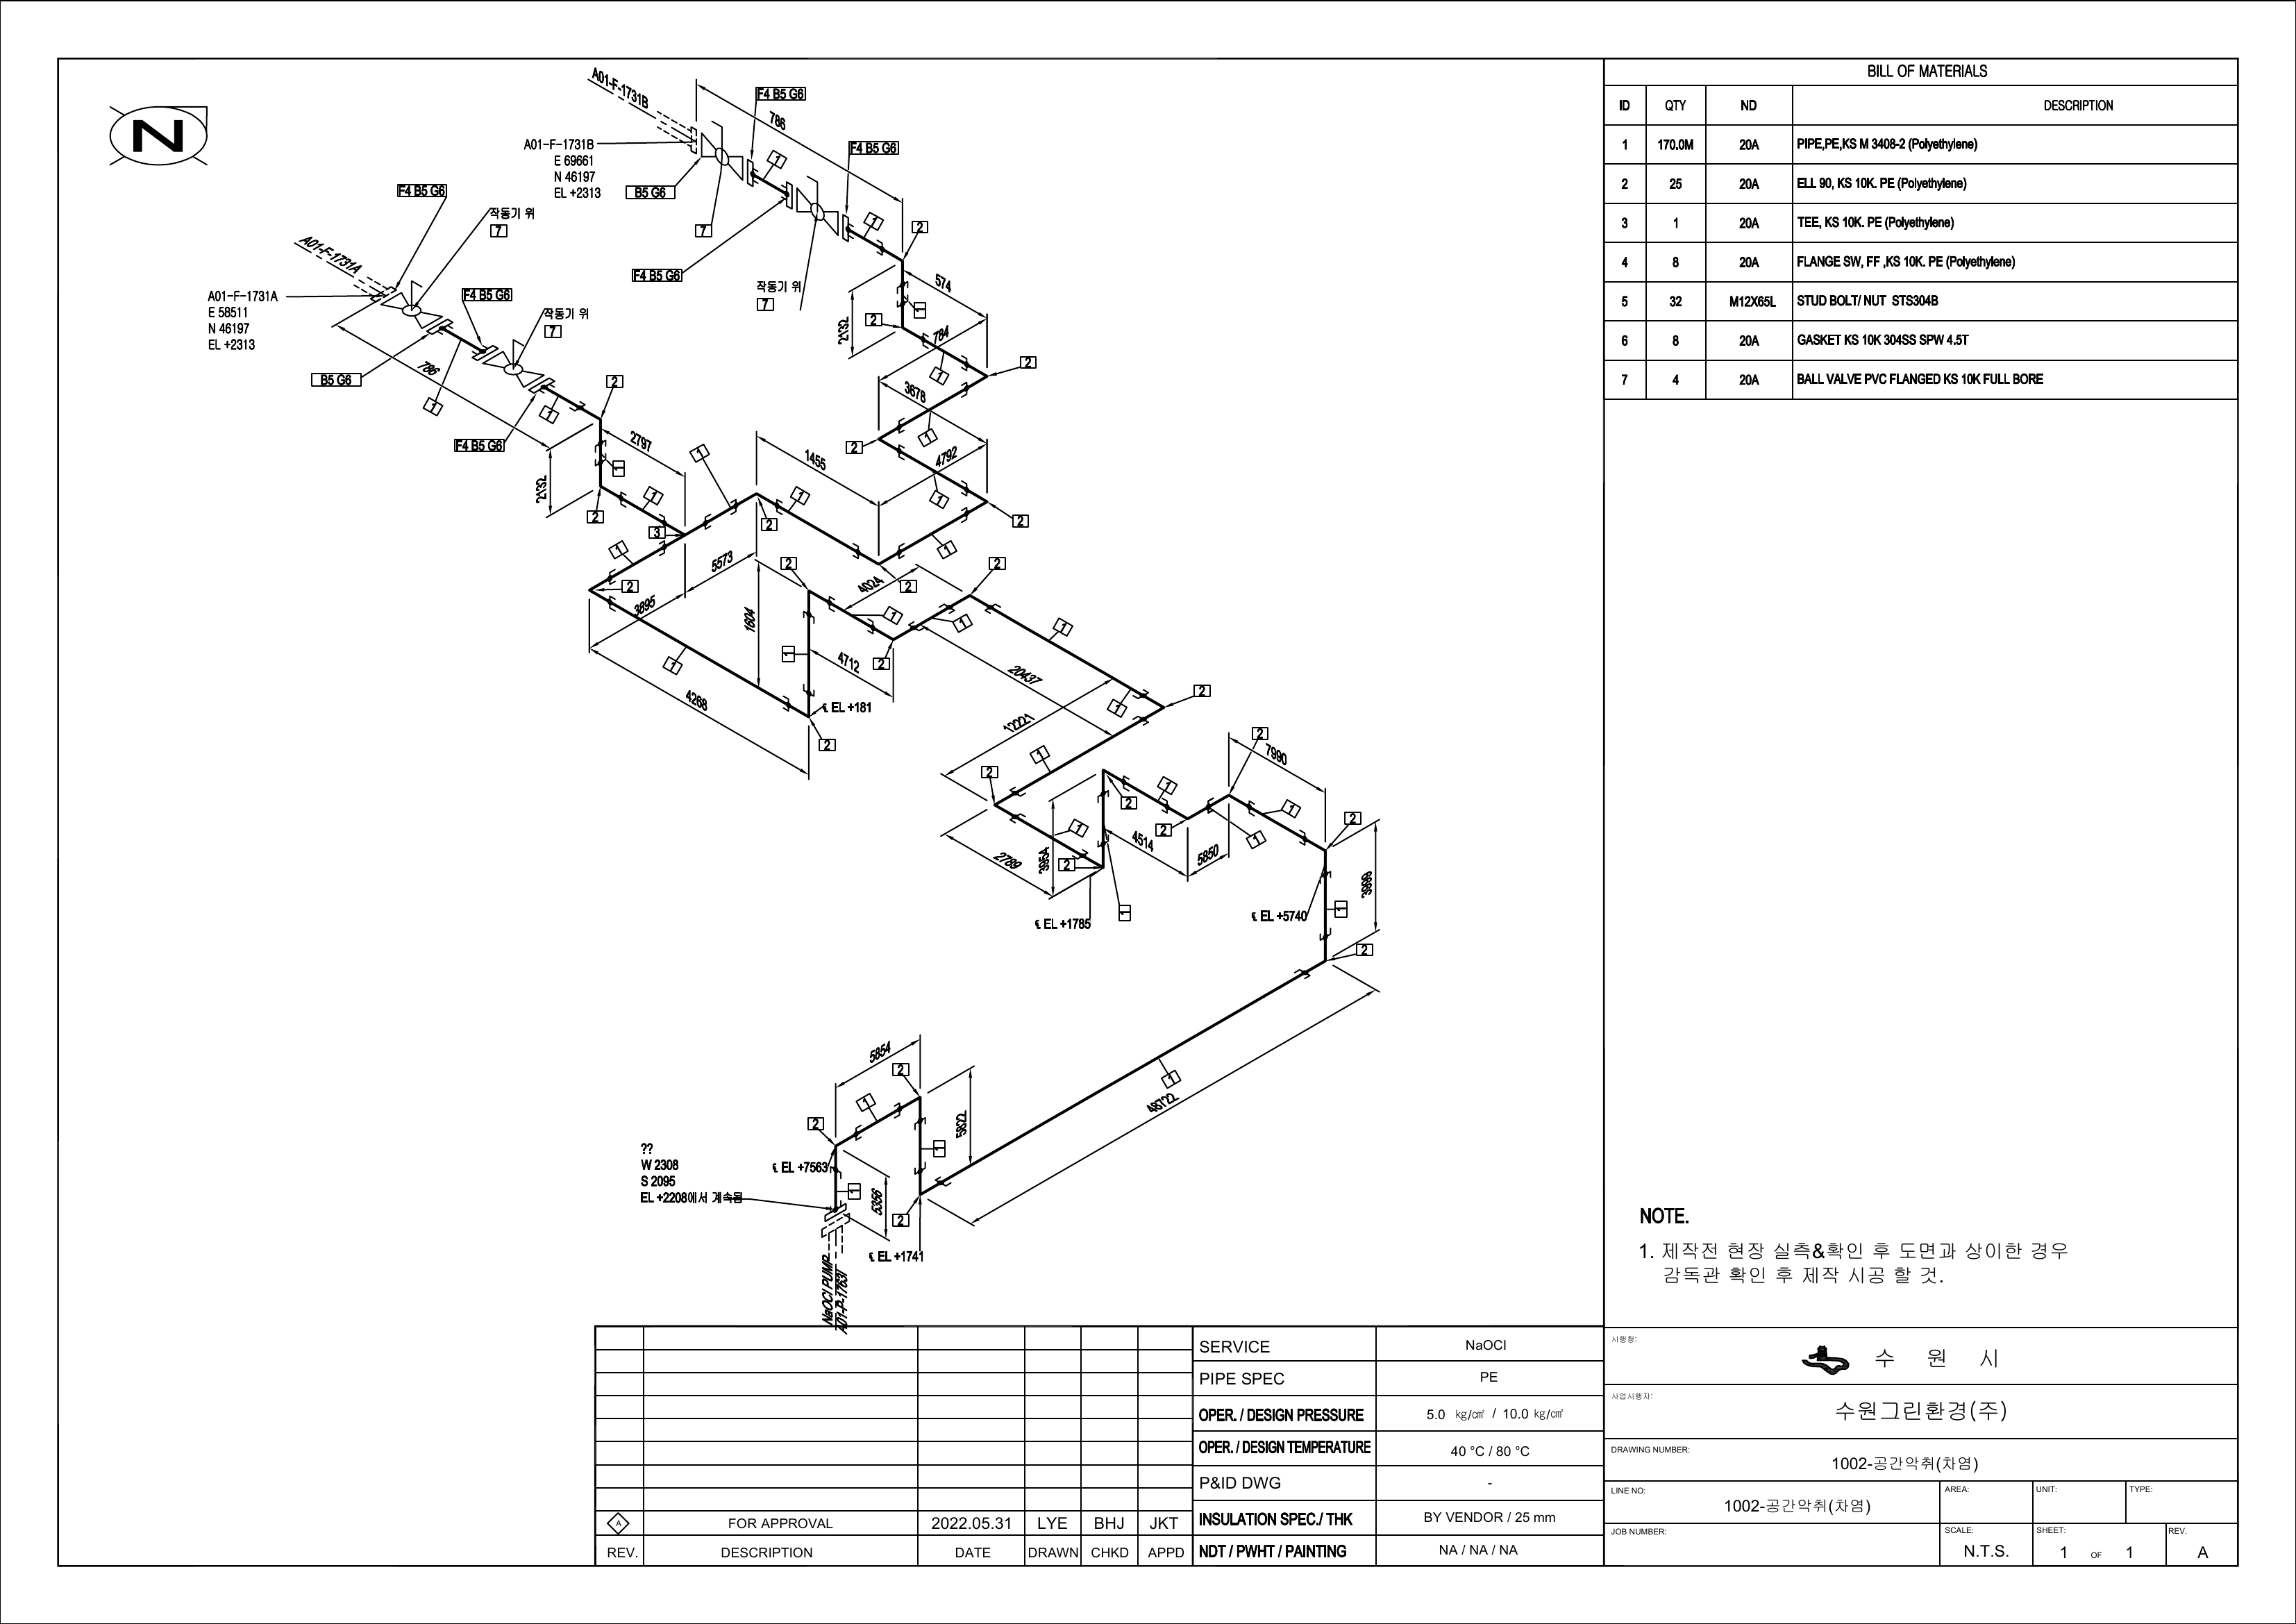table: (1597, 46, 2242, 404)
